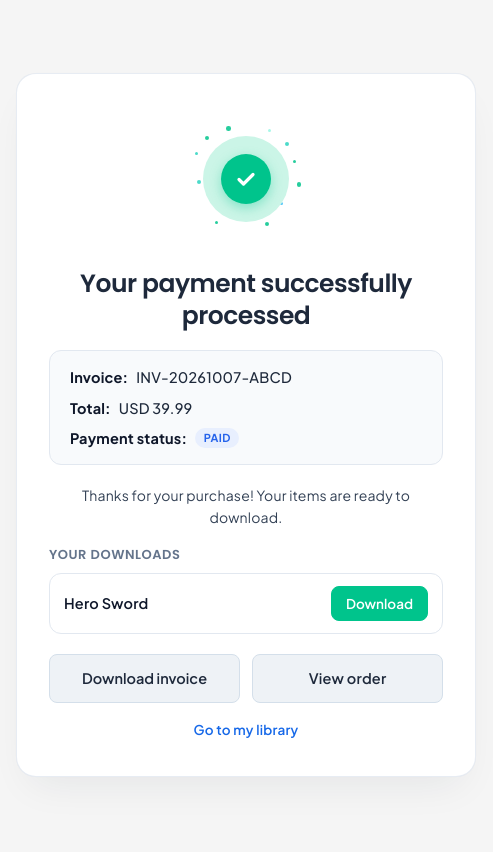
Scenario: CheckoutSuccessPage › shows a download button when a paid item has no files yet
Click the button "Download". click: coordinates (379, 603)
box: [331,586,428,621]
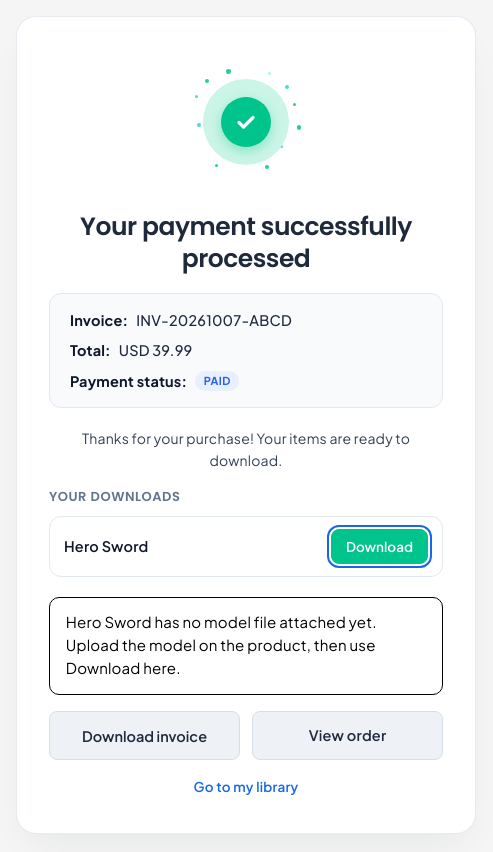
Expected: the 2nd message shows "no model file attached yet", [66,612,377,677]
